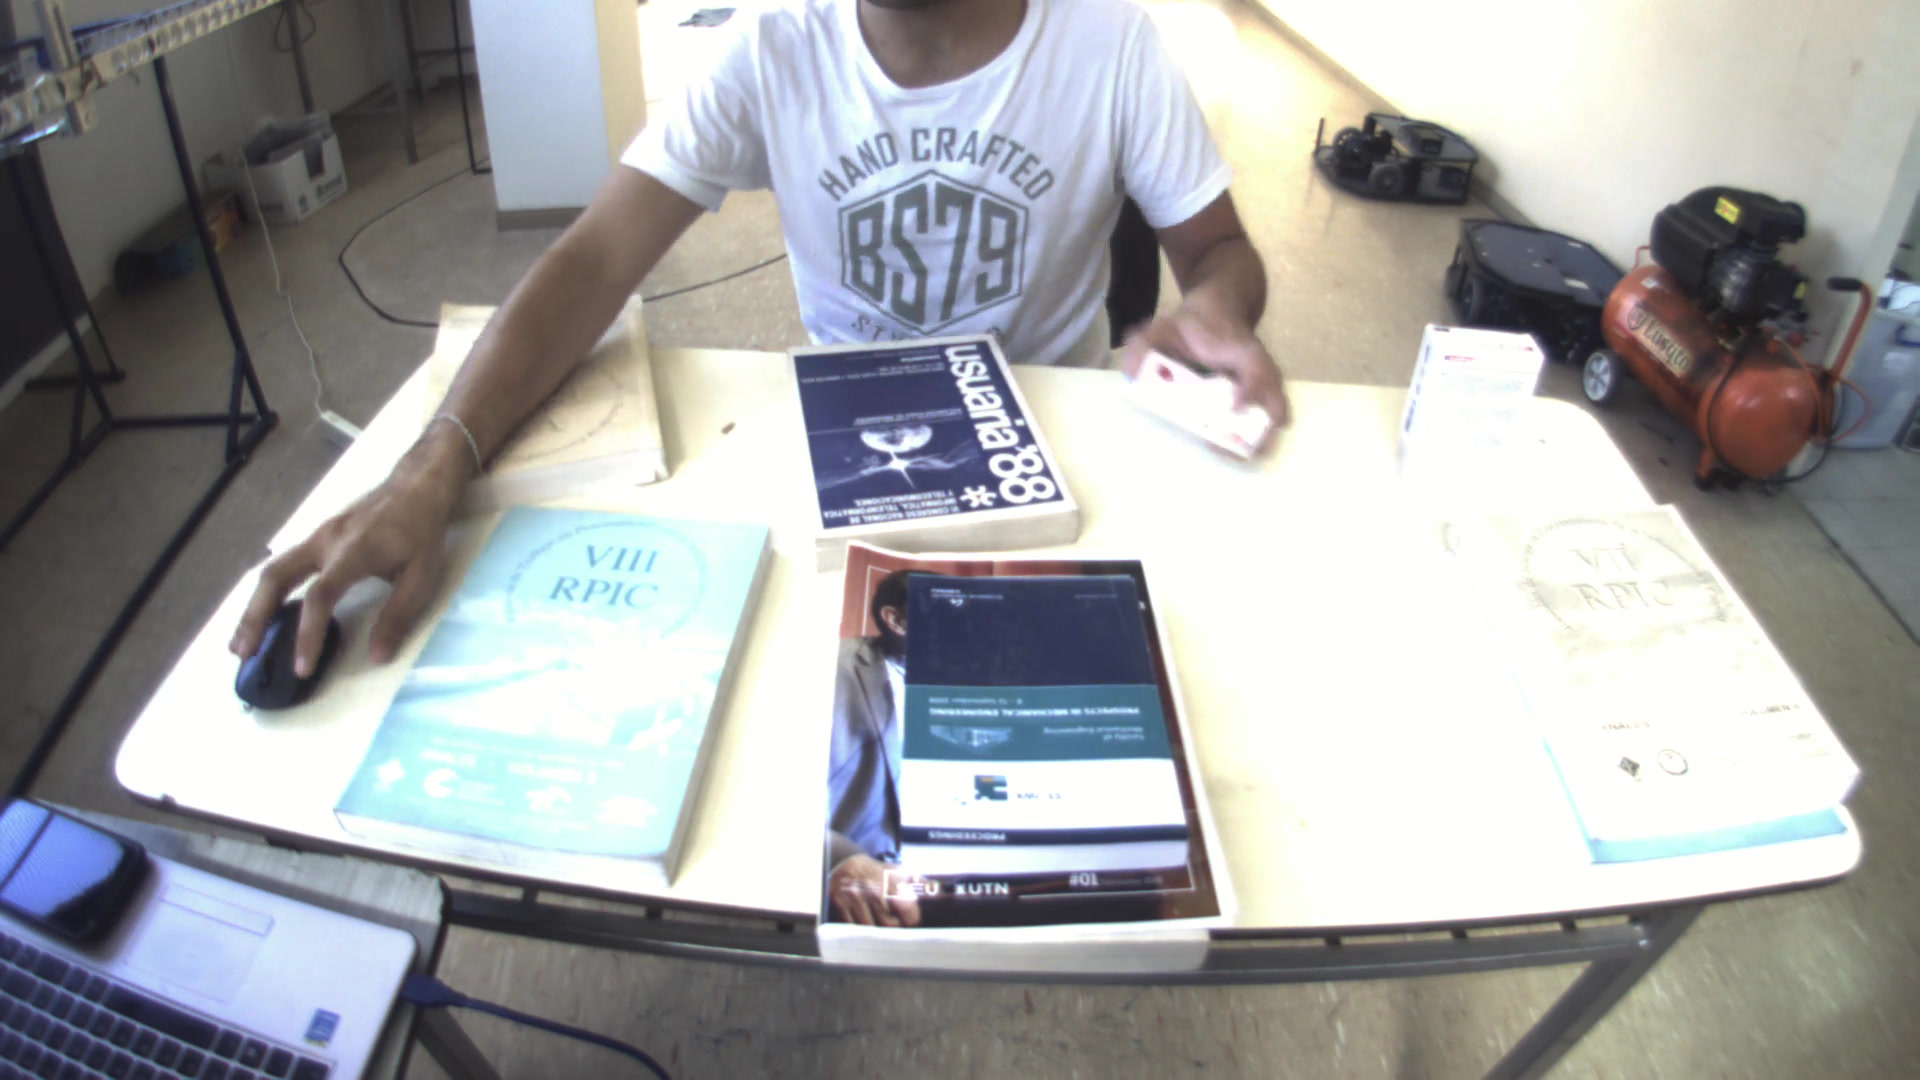hand: (218, 450, 479, 721), (1113, 287, 1309, 464)
